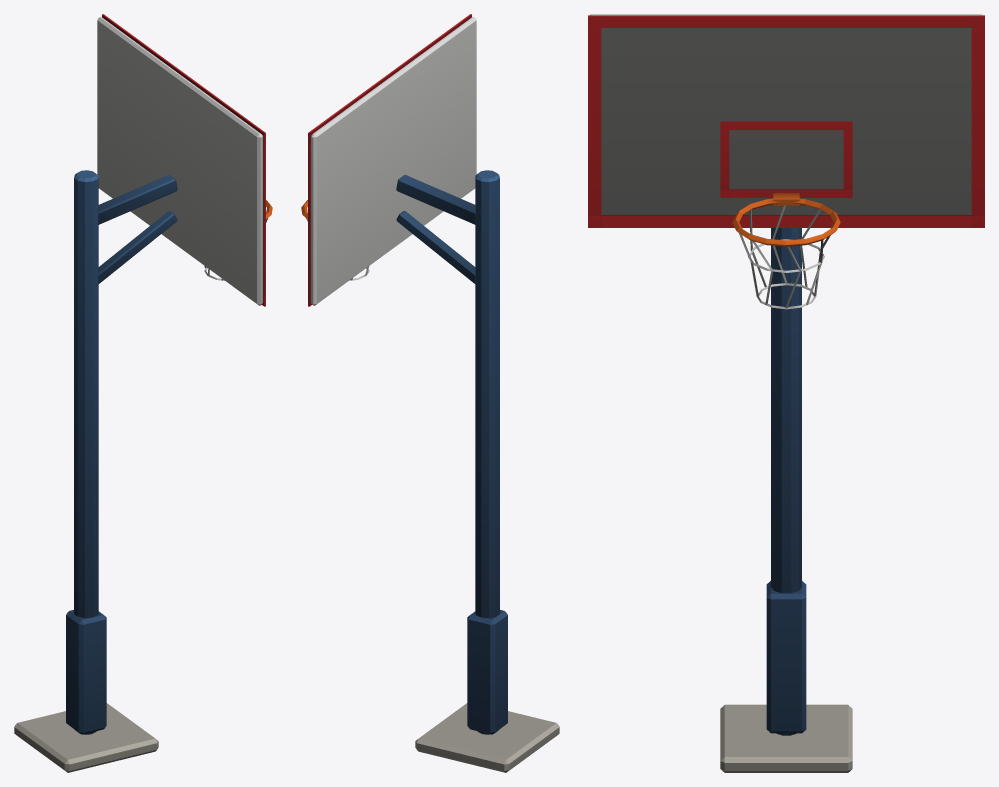
Rendered from basketball_hoop.glb.
The picture shows the model from 3 angles, left to right: view 1: azimuth 30°, elevation 25°; view 2: azimuth 150°, elevation 25°; view 3: azimuth 270°, elevation 25°; orthographic projection. The views are drawn at different scales.
Visible parts, largest first — view 1: Body; view 2: Body; view 3: Body.
Part boxes in pixels (box(x1,y1,x2,y2)): Body: box(14, 14, 272, 772); Body: box(301, 14, 559, 772); Body: box(588, 14, 984, 772).
Bounding box in the file's own units: 1.46 × 3.95 × 1.8.
